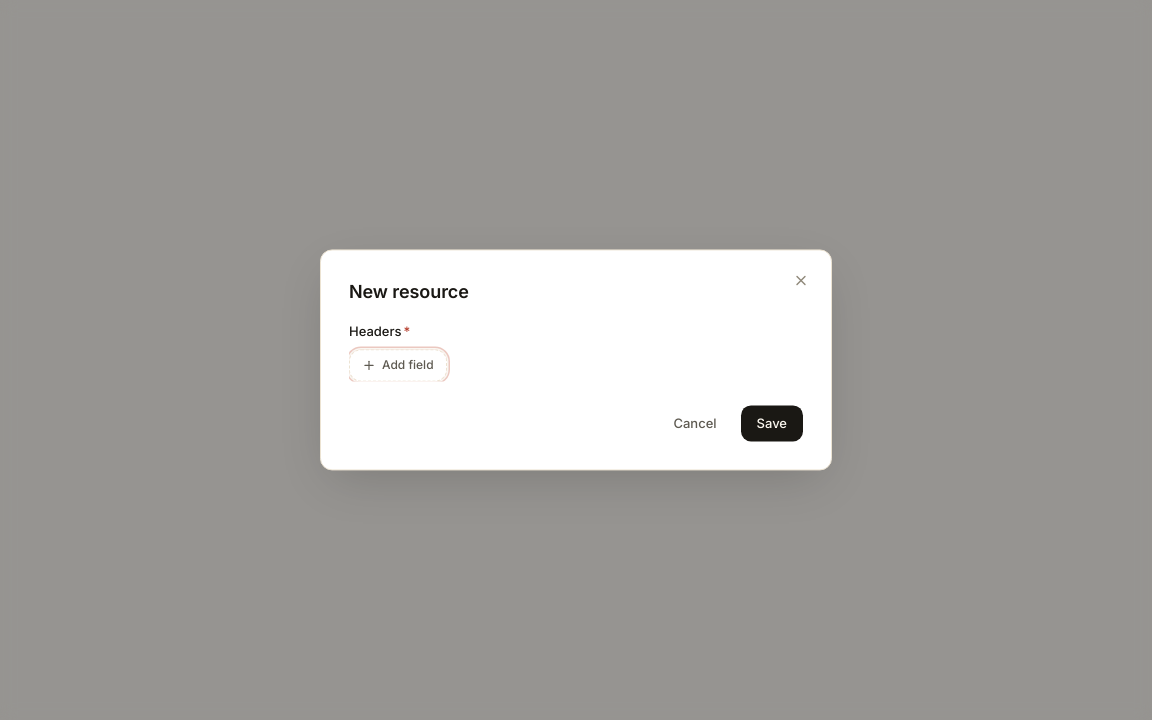
Test: ResourceFormDialog required validation › blocks submit and surfaces the inline error for an empty {} object value
The image size is (1152, 720).
What coordinates should you click on to do the following:
click the button "Save"
I would click on:
 (772, 424)
Its box is [740, 406, 803, 442].
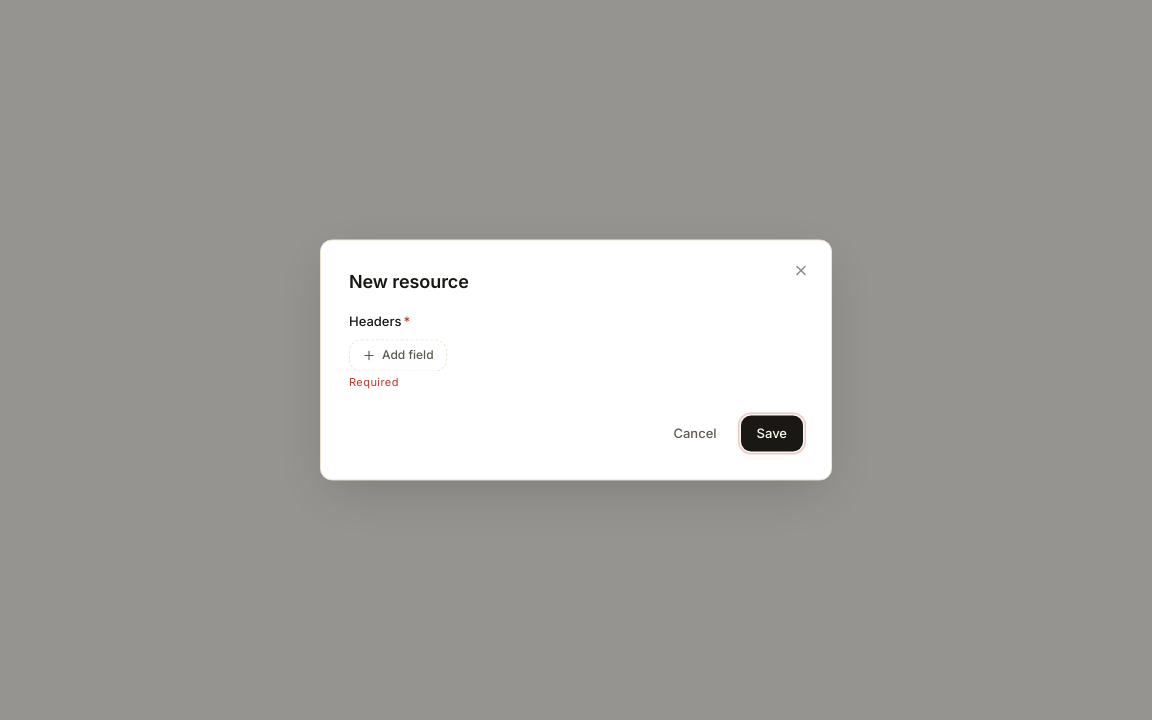
Result: the text "Required" is shown at [349, 376, 399, 390]
